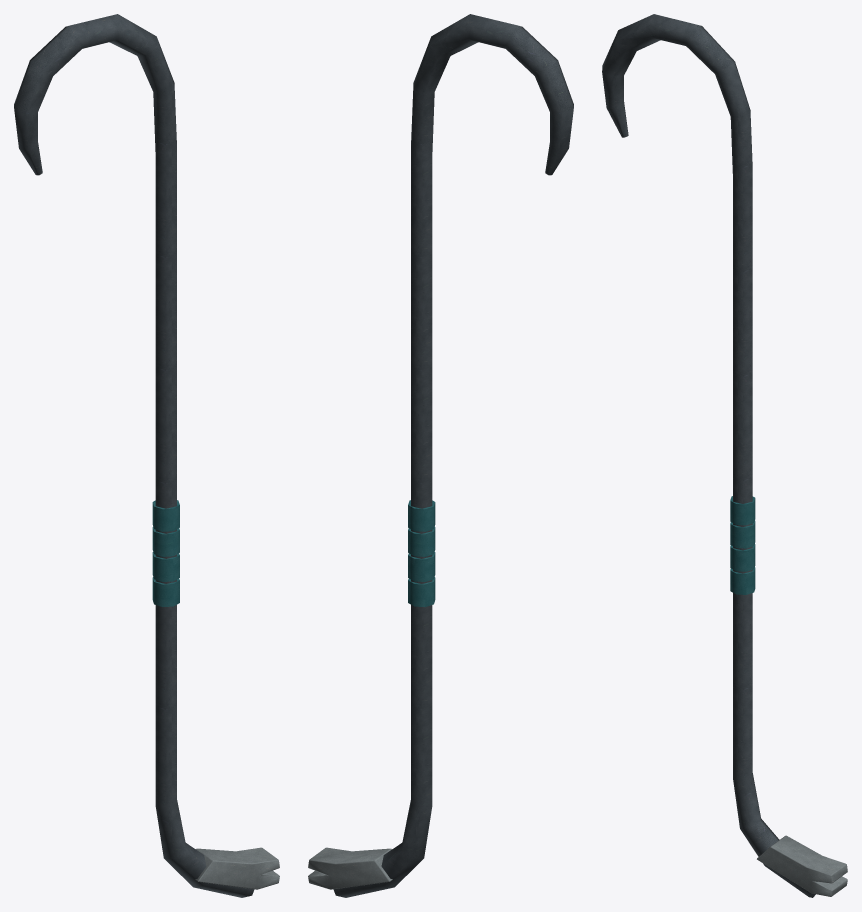
The model's file is crowbar.glb.
The picture shows the model from 3 angles, left to right: view 1: azimuth 30°, elevation 25°; view 2: azimuth 150°, elevation 25°; view 3: azimuth 330°, elevation 25°; orthographic projection. The views are drawn at different scales.
Visible parts, largest first — view 1: Crowbar_Body; view 2: Crowbar_Body; view 3: Crowbar_Body.
Boxes of the visible parts, x1,y1,x2,y2 form: Crowbar_Body: (14, 14, 279, 897); Crowbar_Body: (308, 14, 573, 897); Crowbar_Body: (602, 14, 847, 897).
Bounding box in the file's own units: 0.2147 × 0.7285 × 0.025.
3 materials, 3 textured.
